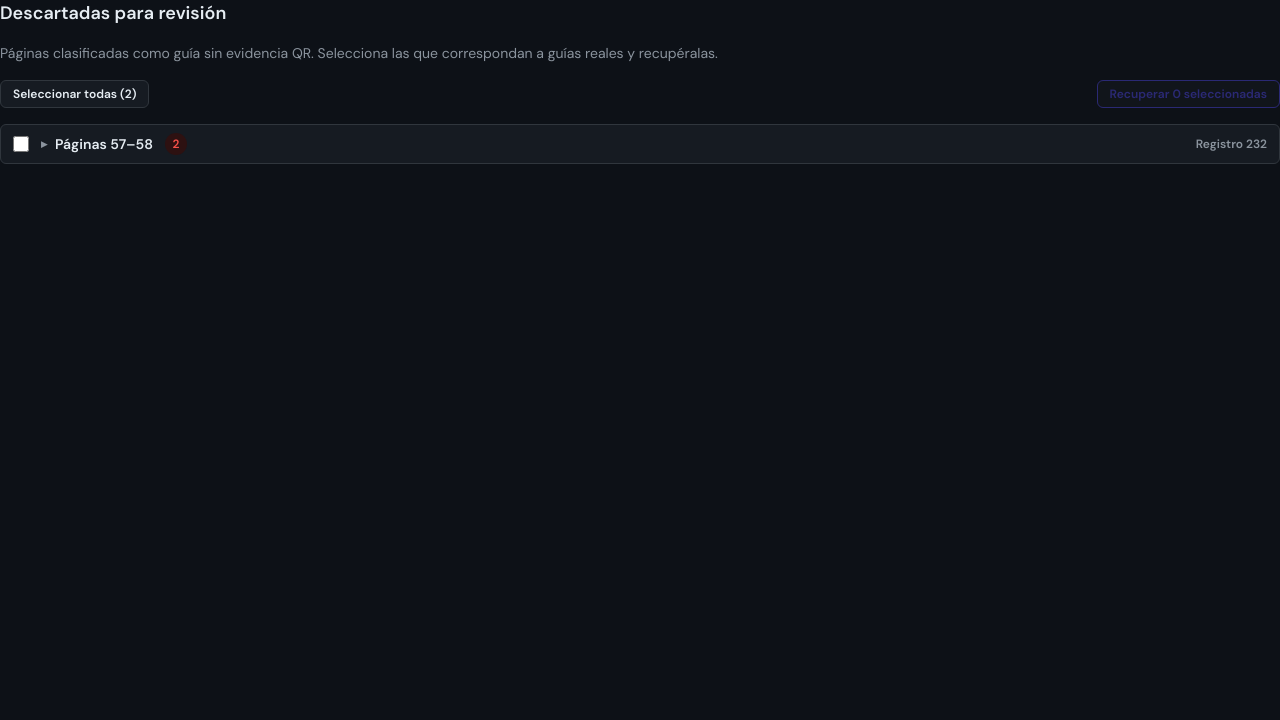
Test: DescartadasTab — A3 confirm dialog before batch fire › shows an approximate ETA and the vision-cost warning when OCR-empty pages are selected
Click the button with class "descartadas-tab__select-all" at (75, 94), box [0,80,149,108]
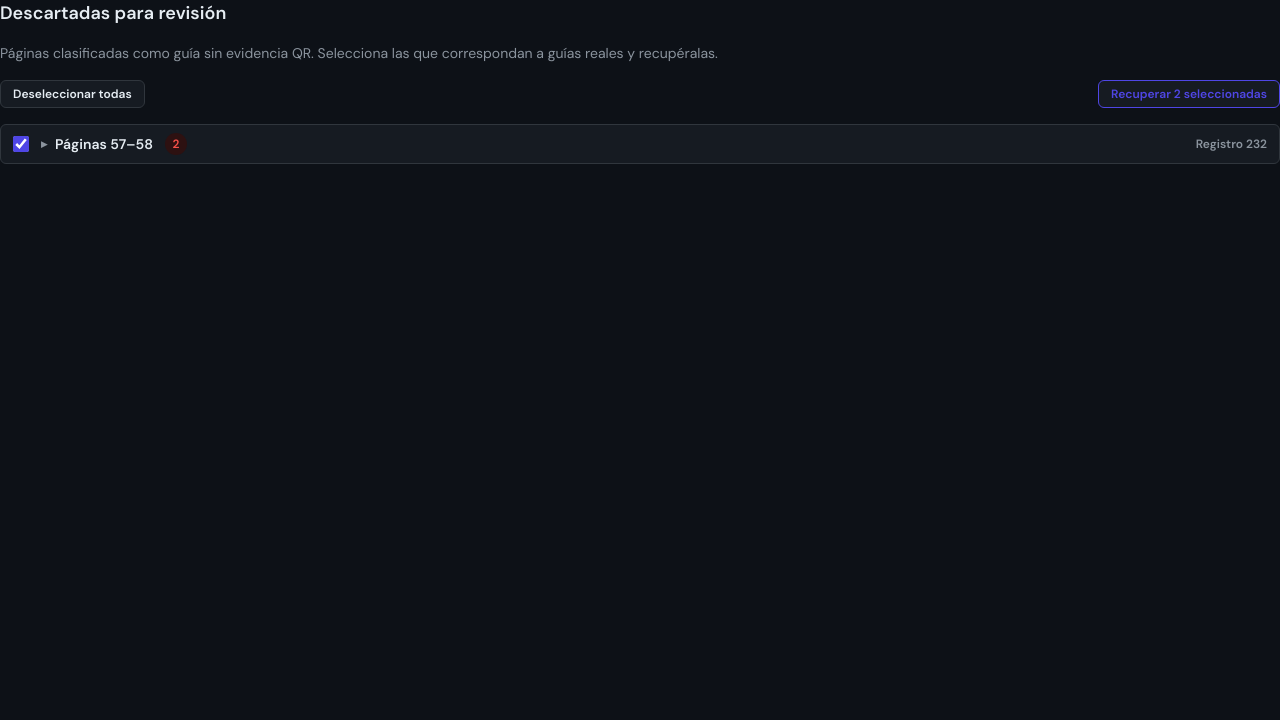
Click the button with class "descartadas-tab__bulk-btn" at (1189, 94), box [1098,80,1279,108]
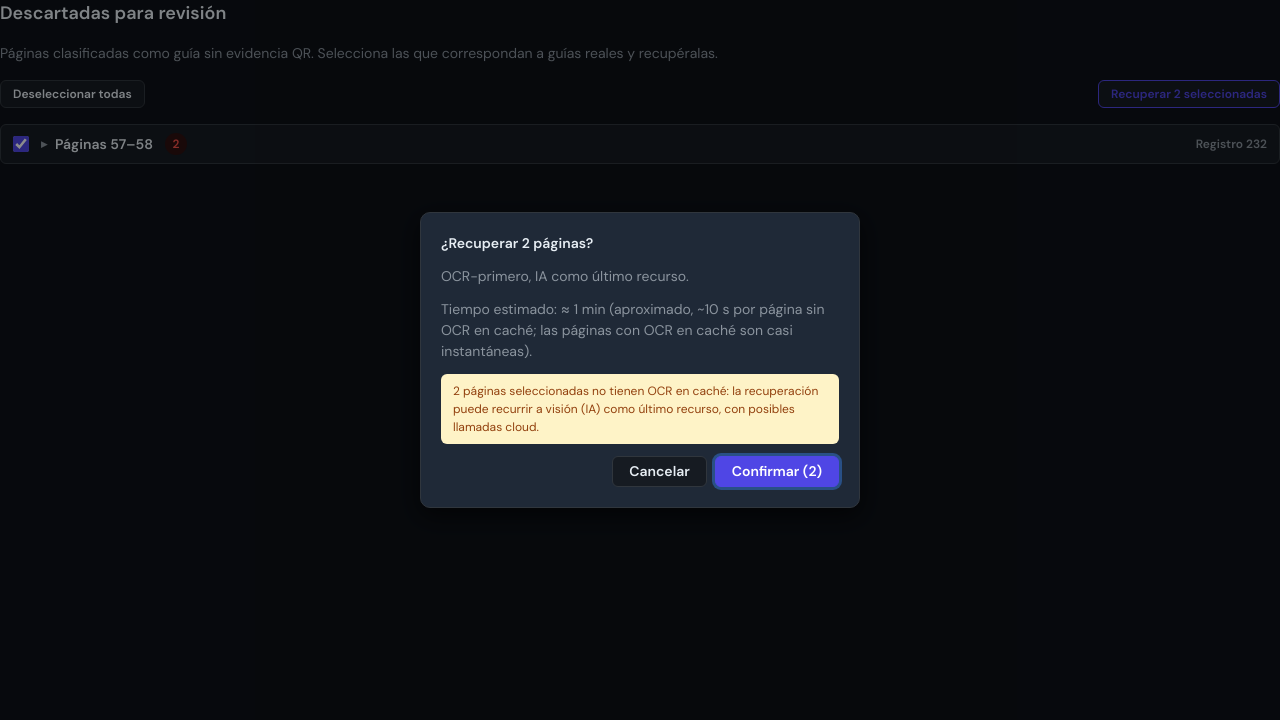
Result: the dialog with class "descartadas-tab__dialog" shows "~10 s" at [441,300,824,360]
Result: the text with class "descartadas-tab__dialog-warning" is shown at [441,374,839,444]
